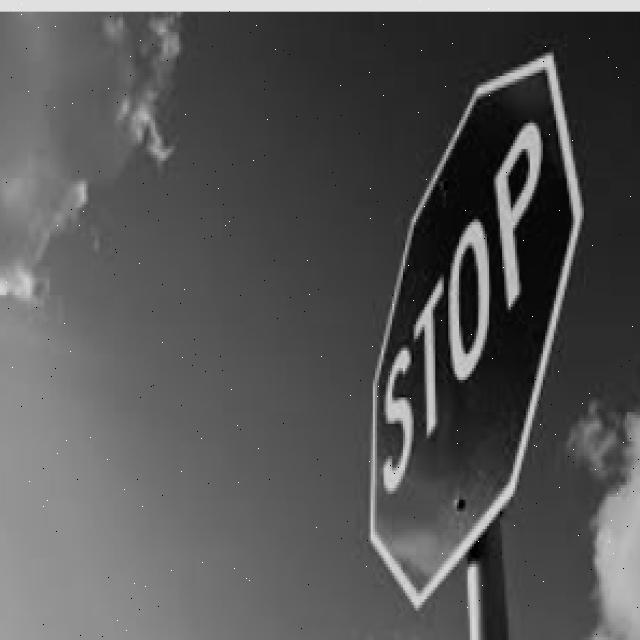Stop-signs: (370, 57, 584, 605)
